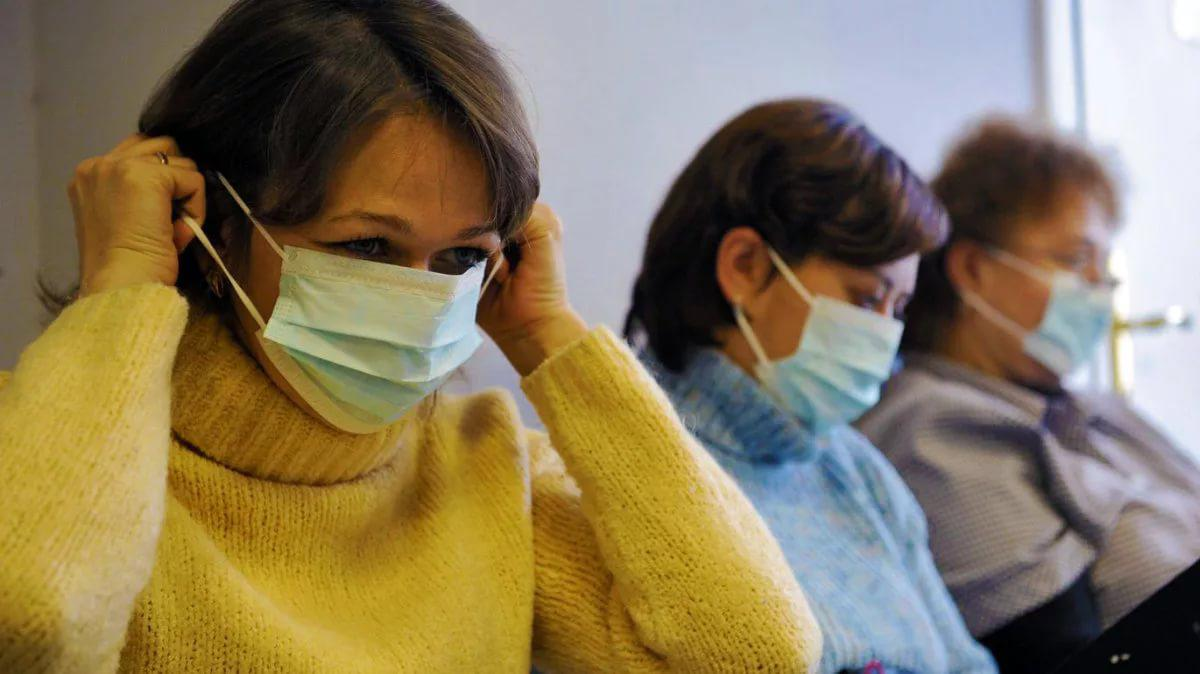mask: (249, 143, 514, 434), (965, 152, 1129, 378), (754, 210, 917, 436)
